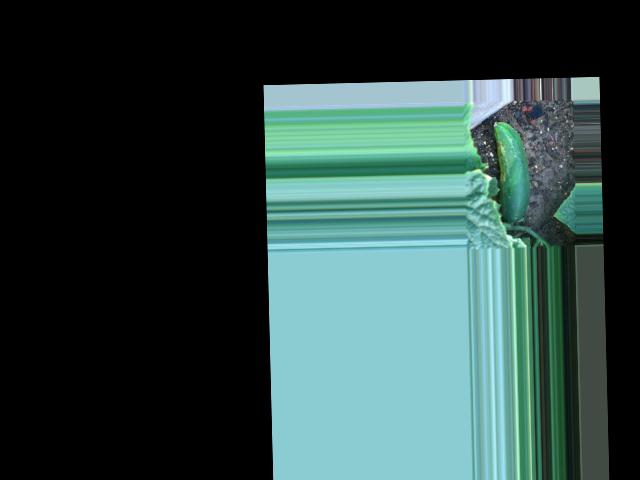cucumber: (493, 120, 530, 222)
